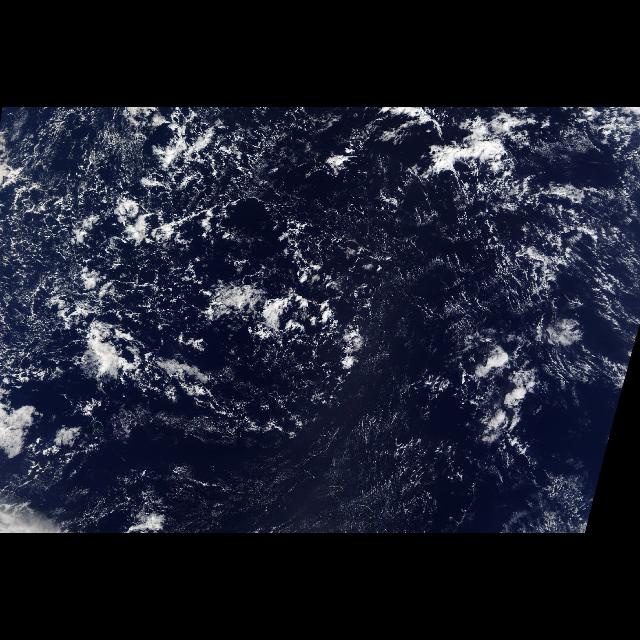Gravel: (0, 107, 558, 431)
Sugar: (173, 408, 429, 532)
